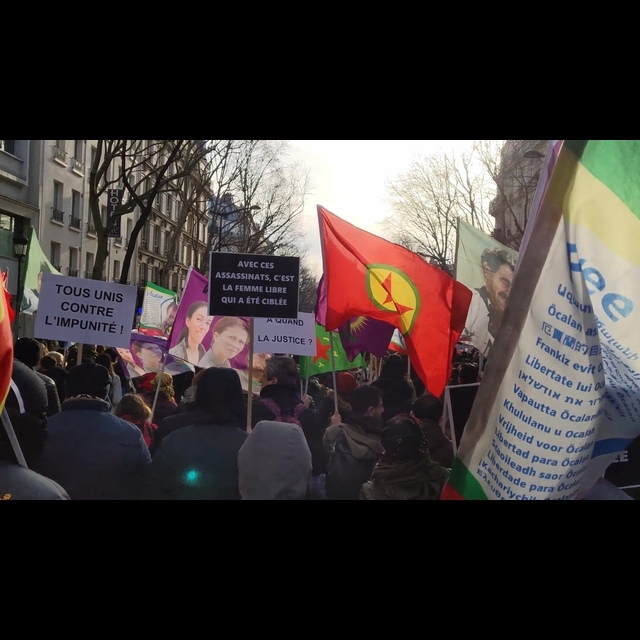PKK: (353, 248, 428, 338)
